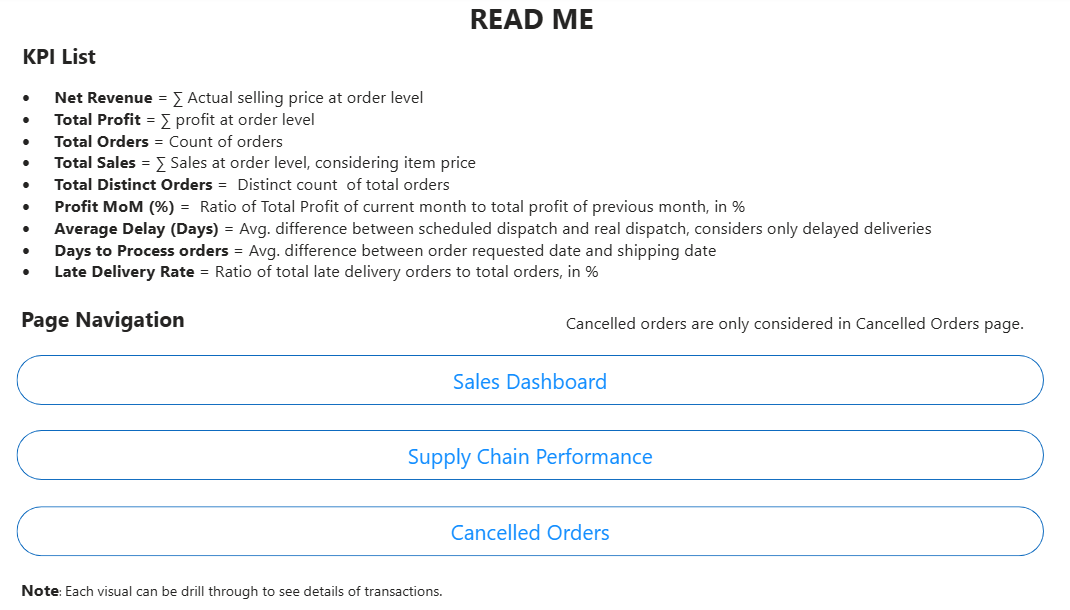

What the dashboard file says about the page in this screenshot:
{"tool":"powerbi","page":{"name":"Read Me","canvas":[1280,720],"ordinal":0},"visuals":[{"type":"textbox","box":[139.3,0,1000.4,95.2],"z":0},{"type":"textbox","box":[55.4,48.3,1168,321.1],"z":1000},{"type":"shape","title":"Sales Da","box":[54.3,409.2,1168,56.8],"z":2000},{"type":"textbox","box":[54.3,346.7,386.5,62.5],"z":3000},{"type":"shape","title":"Sales Da","box":[54.3,495.2,1168,56.8],"z":4000},{"type":"shape","title":"Sales Da","box":[54.3,581.2,1168,56.8],"z":5000},{"type":"textbox","box":[673.8,355.2,591.1,44],"z":6000},{"type":"textbox","box":[54,657.9,571.2,62.5],"z":7000}]}

Visuals, with their boxes in screenshot pixels (x1, y1, x2, y2), scaled from the page's 1280x720 canvas onto the 1070x610 screenshot:
textbox: 116, 0, 953, 81
textbox: 46, 41, 1023, 313
"Sales Da" shape: 45, 347, 1022, 395
textbox: 45, 294, 368, 347
"Sales Da" shape: 45, 420, 1022, 468
"Sales Da" shape: 45, 492, 1022, 541
textbox: 563, 301, 1057, 338
textbox: 45, 557, 523, 609
